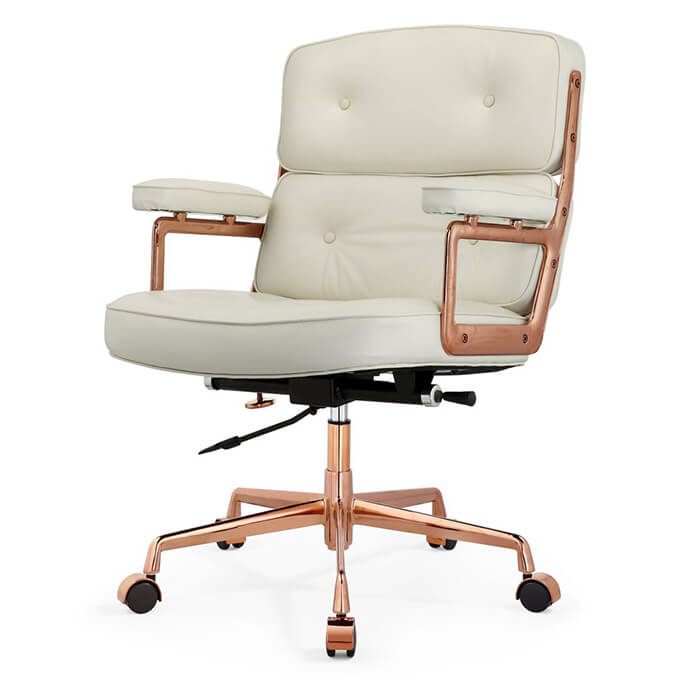chairs: (87, 23, 593, 663)
